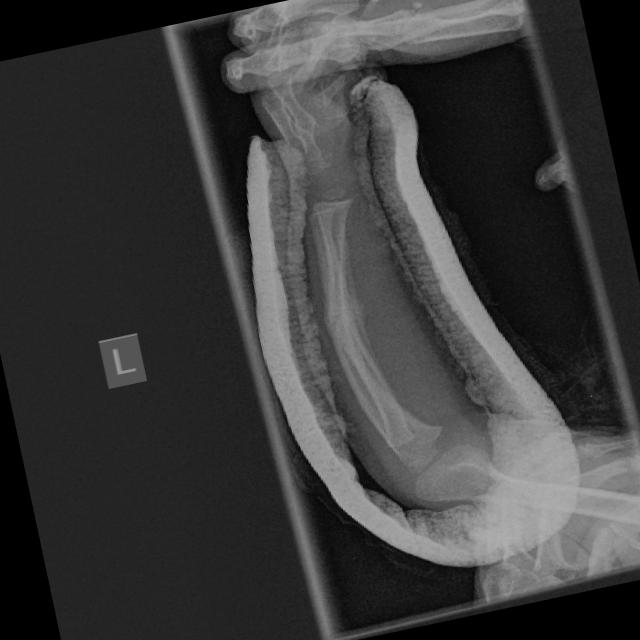forearm fracture: (297, 281, 406, 380)
